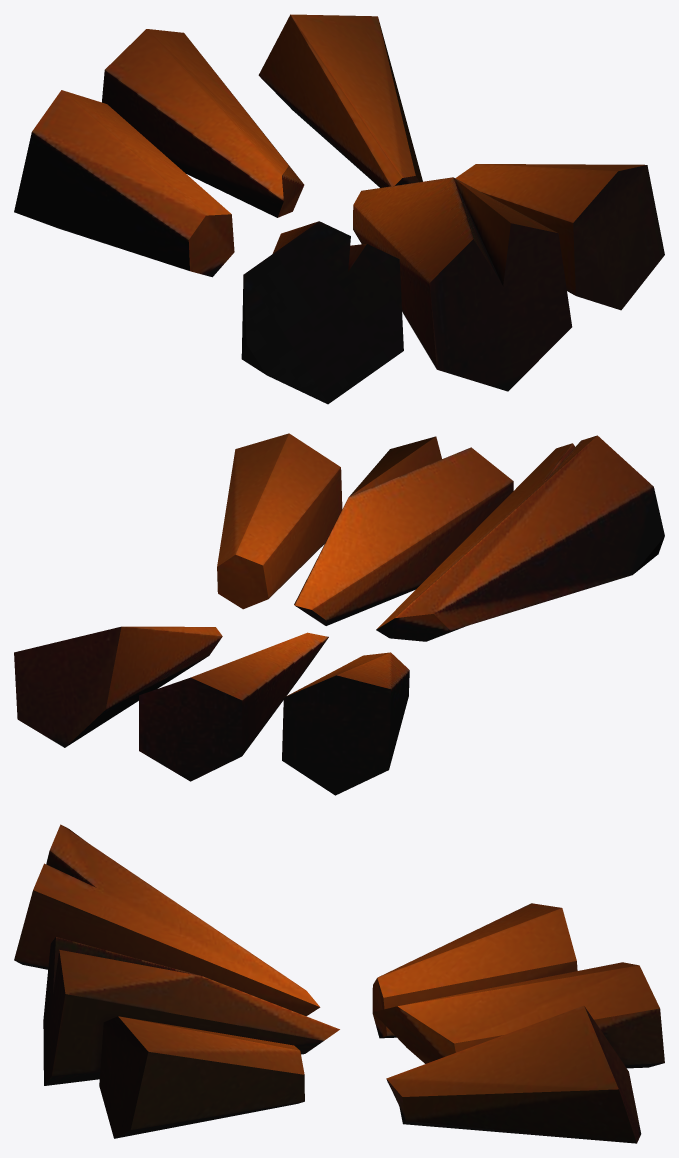
Rendered from logs.glb.
3 views of the same model, one above another, from view 1: azimuth 30°, elevation 25°; view 2: azimuth 150°, elevation 25°; view 3: azimuth 270°, elevation 25° (orthographic). The views are drawn at different scales.
Parts seen in each view (by area): view 1: logs; view 2: logs; view 3: logs.
Part boxes in pixels (x1,y1,x2,y2): logs: (14, 14, 664, 404); logs: (14, 433, 664, 795); logs: (14, 824, 664, 1143).
Size of the model in its own units: 2.75 by 1.27 by 3.8.
Materials: 1 (1 with a texture image).
